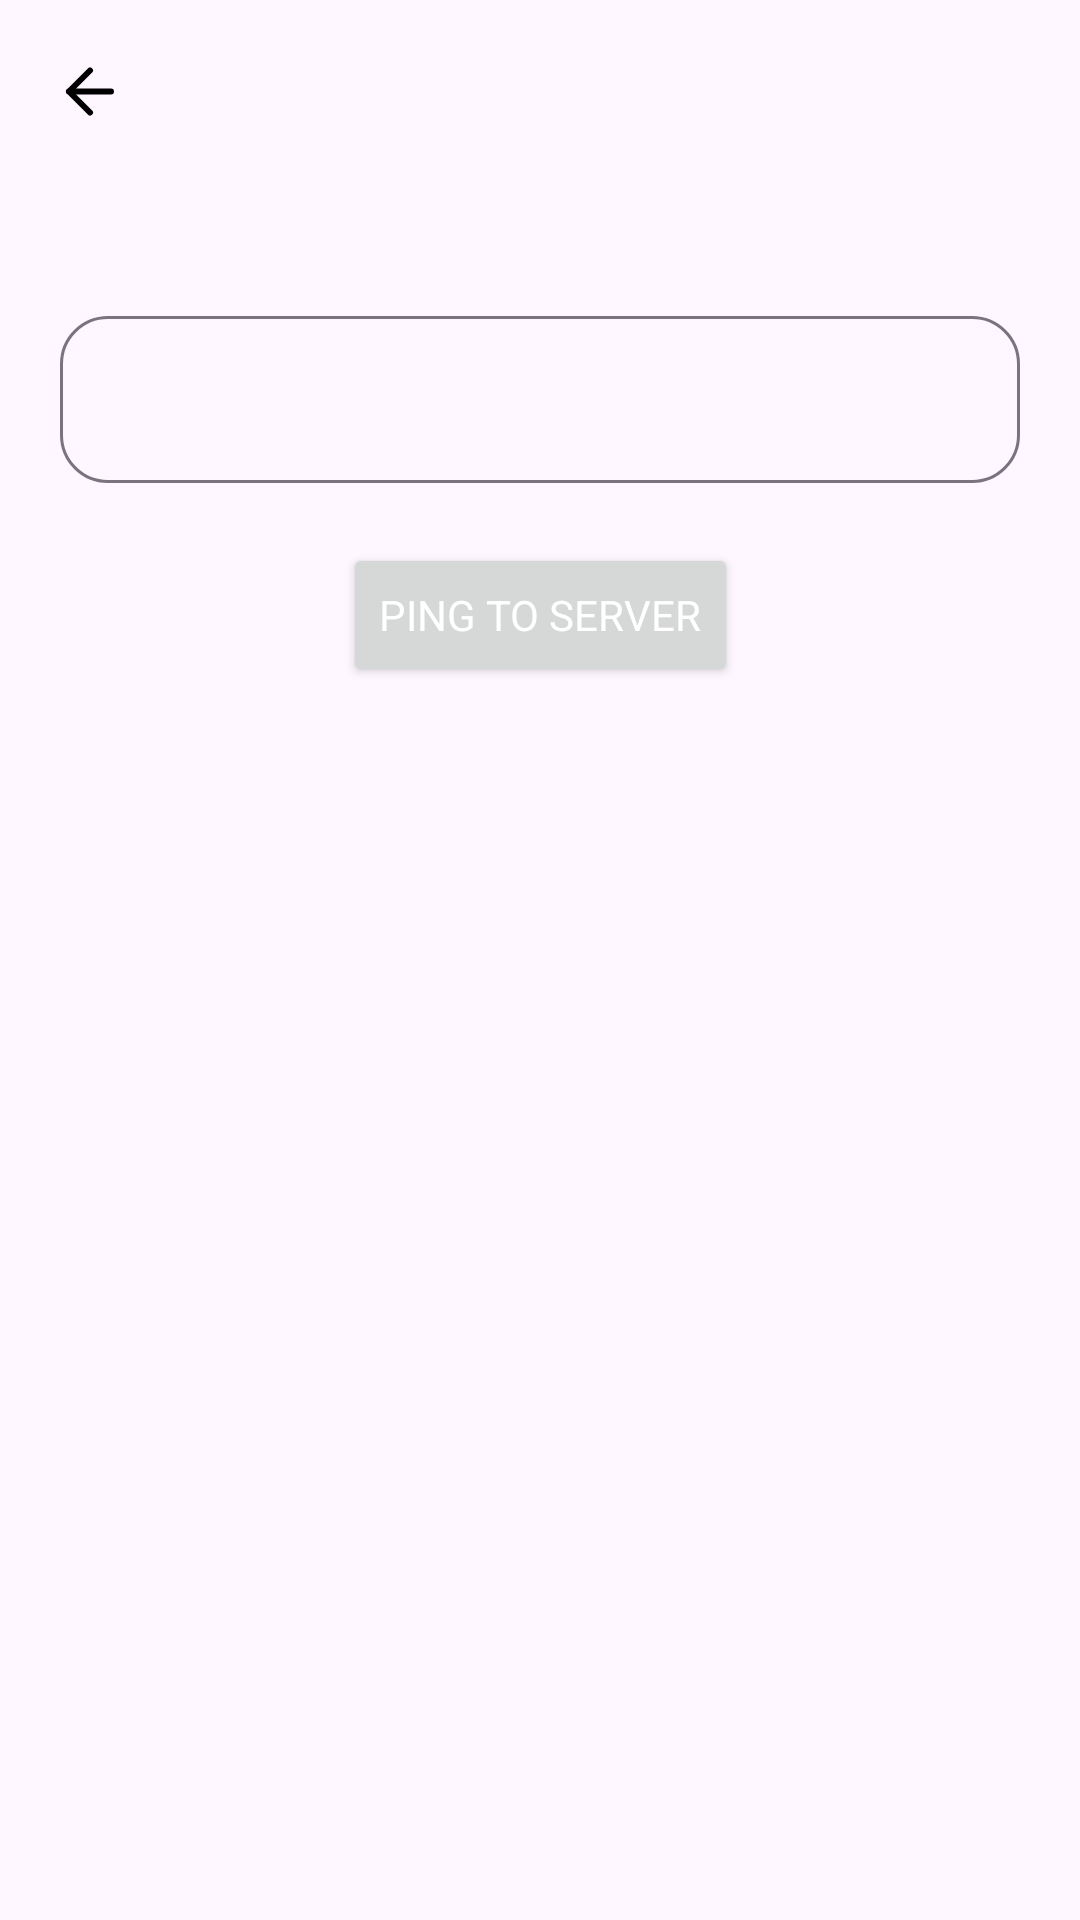

Screen size 1080 × 1920. Icon name, then its box in pixels as box(x1, y1, x2, y2):
back: box(65, 67, 114, 116)
